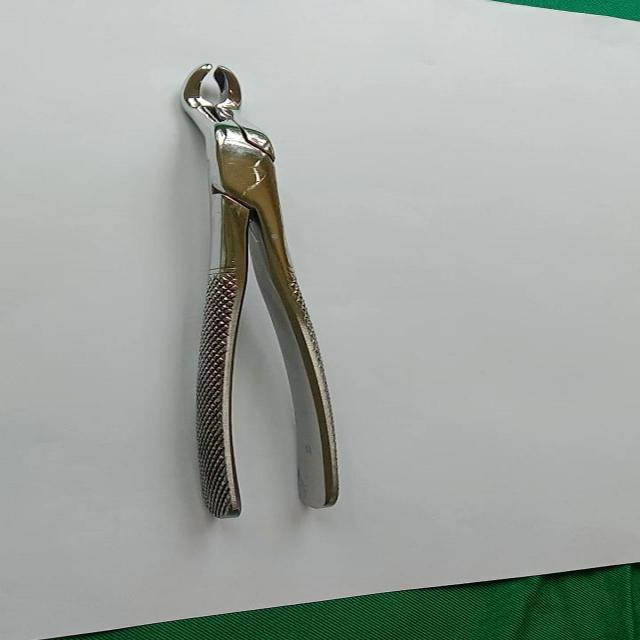BayonetForcep: (137, 60, 370, 518)
